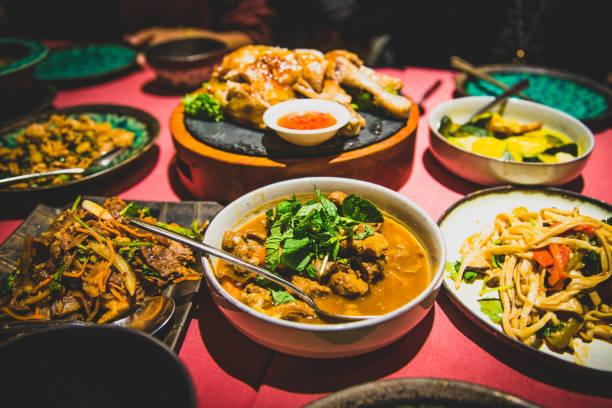Braised Crucian Carp: (200, 175, 441, 356), (433, 183, 610, 378), (3, 198, 219, 355), (176, 47, 419, 161), (428, 94, 593, 185), (2, 100, 160, 191)
